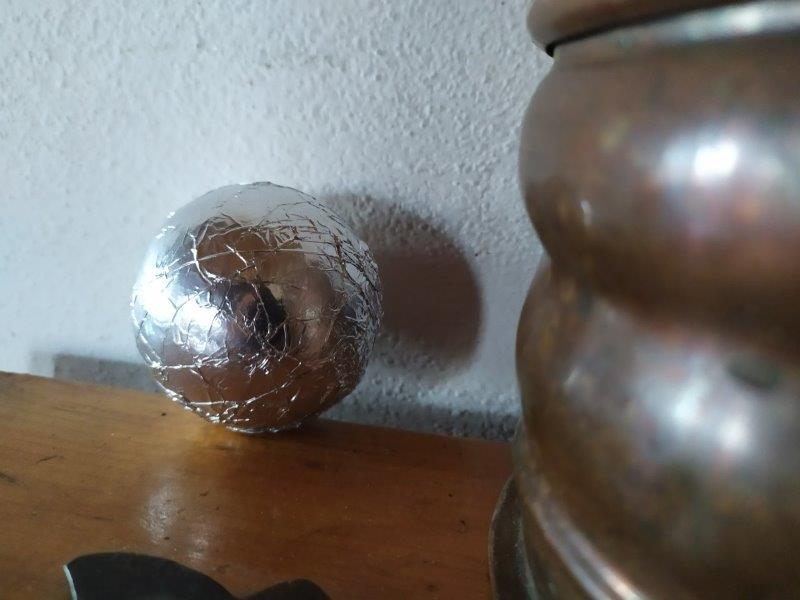bianca: (128, 181, 386, 441)
